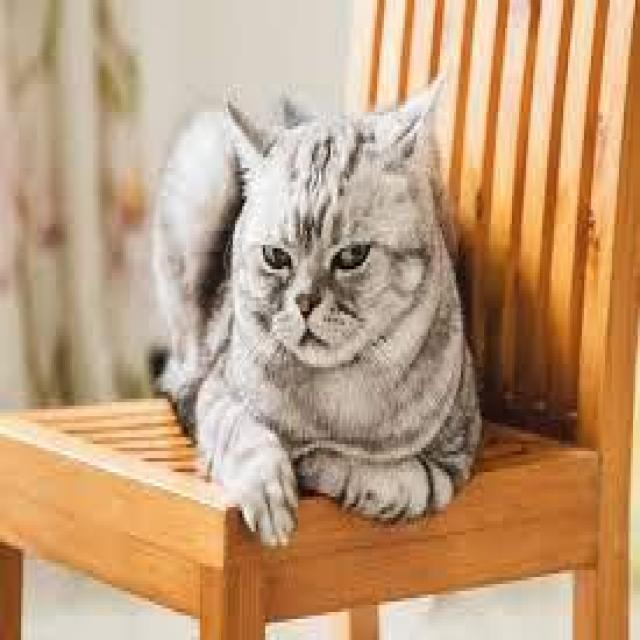Cat: (222, 75, 463, 379)
